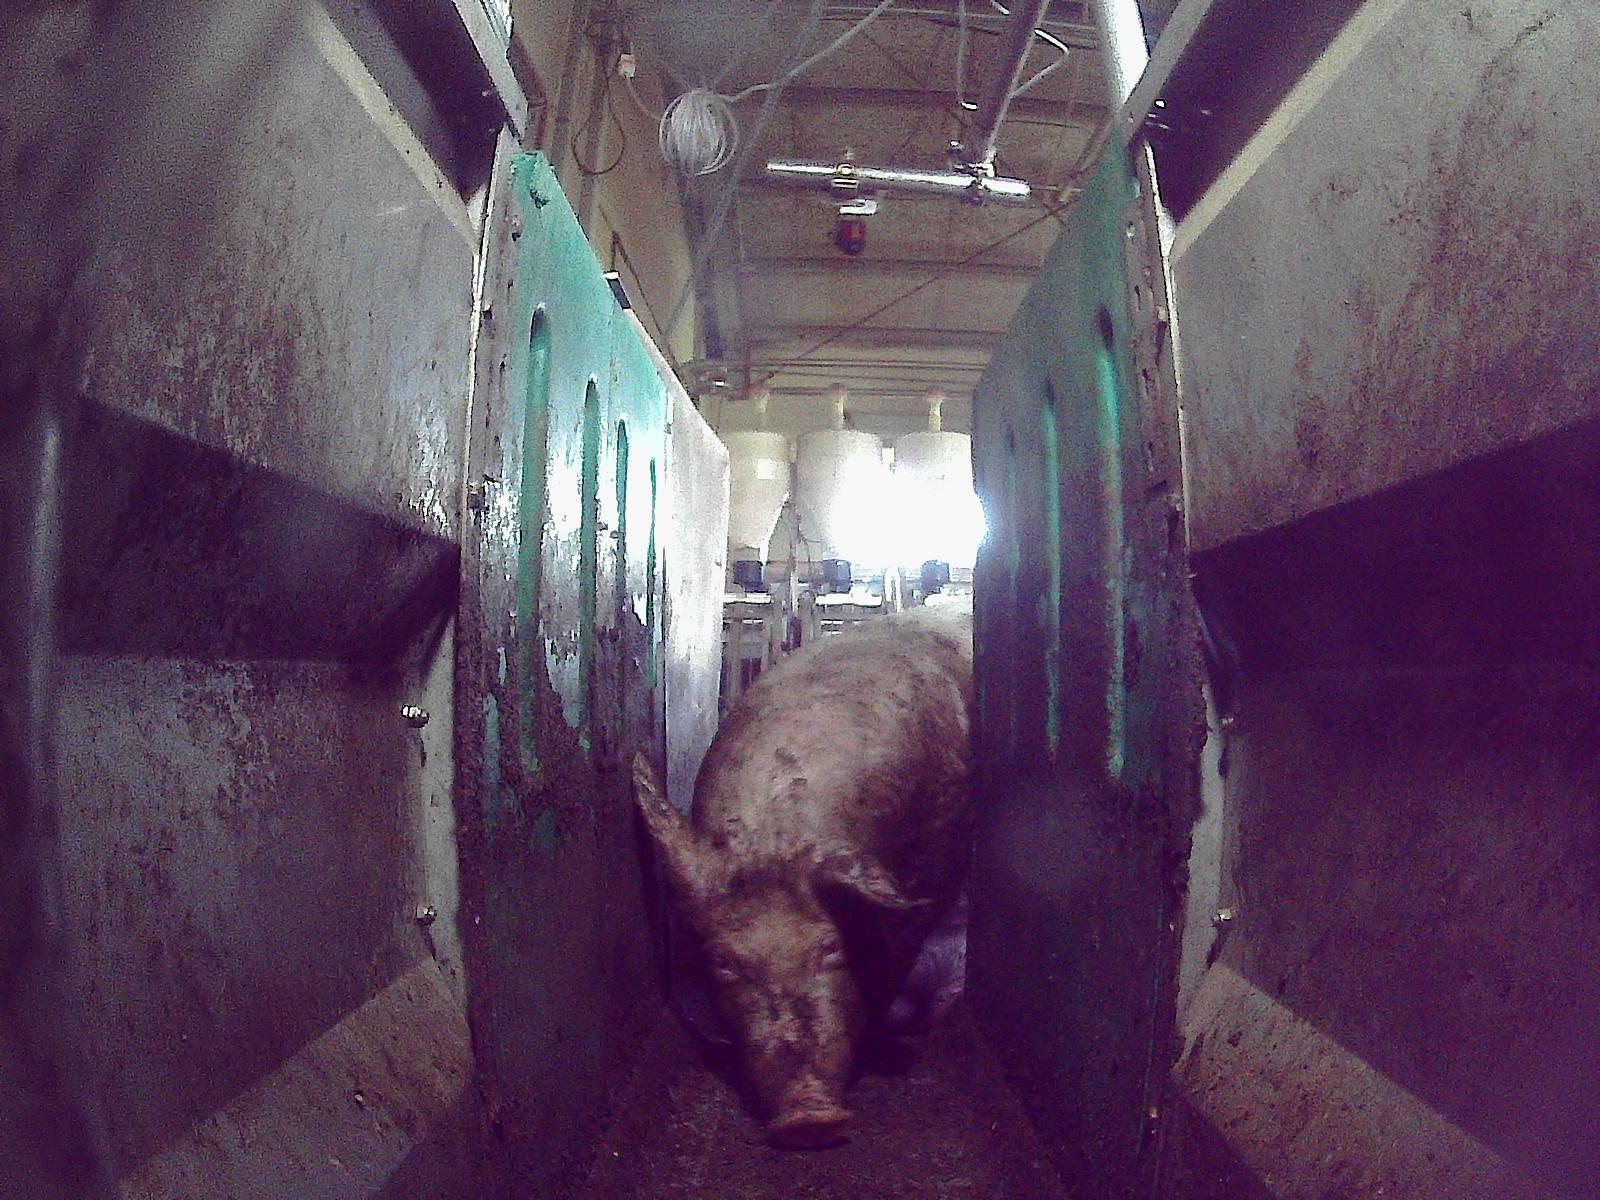Face: (679, 835, 869, 1148)
